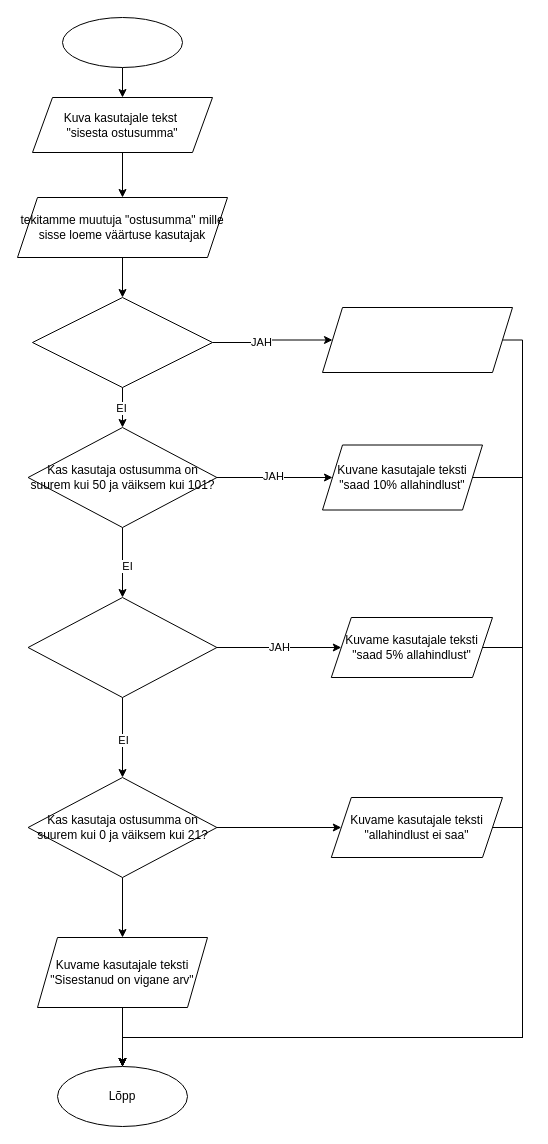
This 548x1144 diagram has some shape labels left out. Here are the shapes that lost their labels. From the top down, the centre of each, then its label:
the point at 122,42: Algus
the point at 122,342: Kas kasutaja ostusumma on suurem kui 100?
the point at 417,339: Kuvame kasutajale teksti "saad 20% allahindlust"
the point at 122,647: Kas kasutaja ostusumma on suurem kui 20 ja väiksem kui 51?
